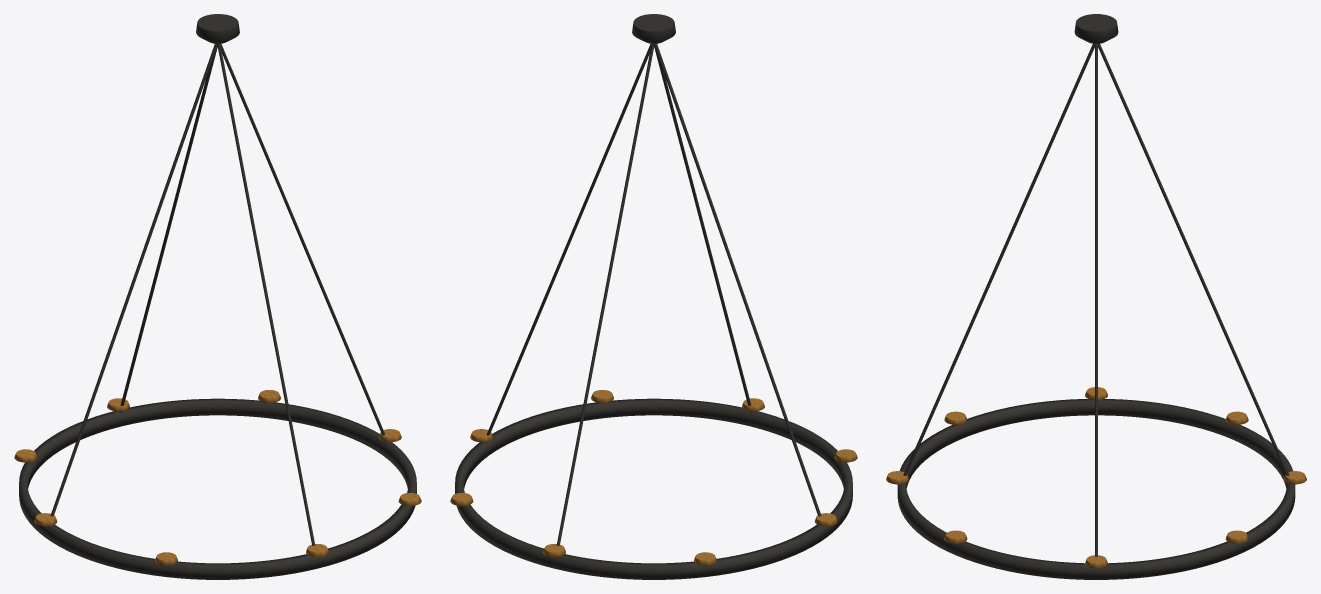
File: chandelier.glb
The picture shows the model from 3 angles, left to right: view 1: azimuth 30°, elevation 25°; view 2: azimuth 150°, elevation 25°; view 3: azimuth 270°, elevation 25°; orthographic projection.
Visible parts, largest first — view 1: ForgedIronSurface, AgedBrassSurface; view 2: ForgedIronSurface, AgedBrassSurface; view 3: ForgedIronSurface, AgedBrassSurface.
Boxes of the visible parts, x1,y1,x2,y2 form: ForgedIronSurface: (19,14,416,579); AgedBrassSurface: (14,390,421,565); ForgedIronSurface: (455,14,852,579); AgedBrassSurface: (450,390,857,565); ForgedIronSurface: (897,14,1295,579); AgedBrassSurface: (886,387,1306,568).
Size of the model in its own units: 1.02 by 1.26 by 1.02.
2 materials, 1 textured.
